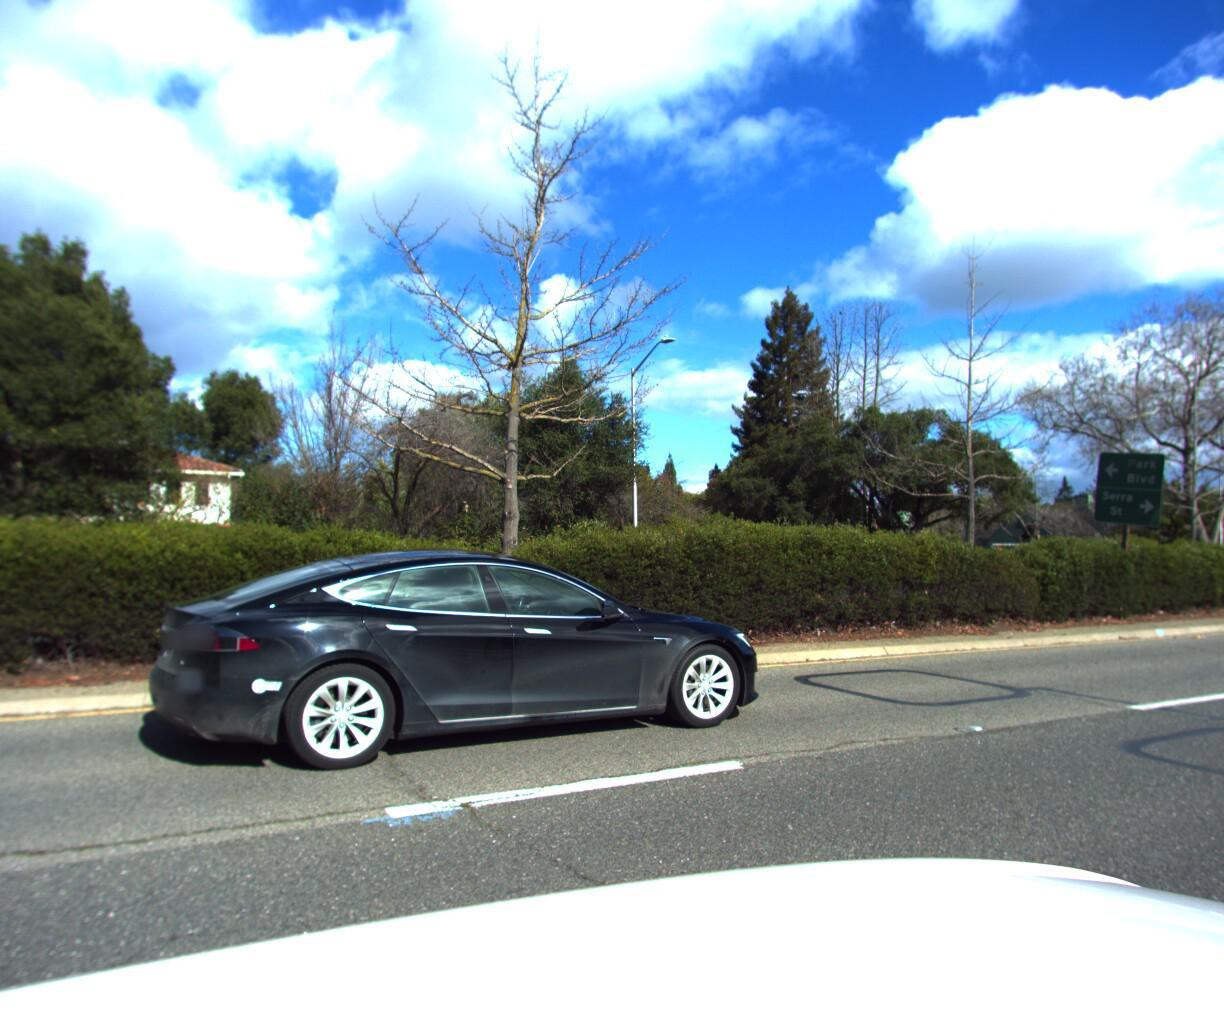car: (142, 535, 803, 812)
